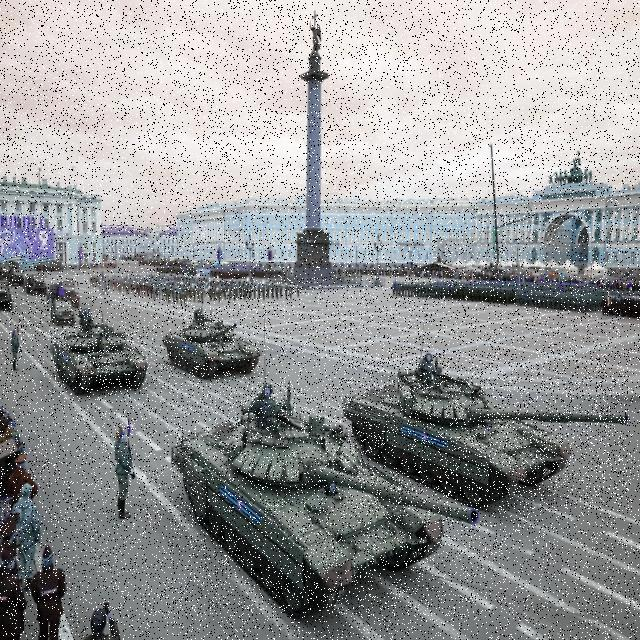MIL_MBT: (171, 381, 479, 618), (343, 349, 629, 511), (163, 306, 261, 379), (50, 325, 148, 395)
